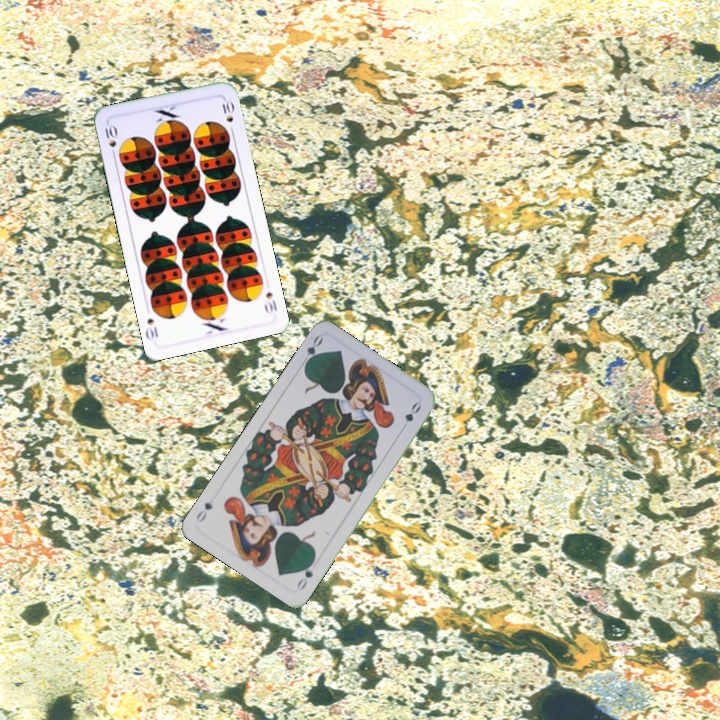GO: (296, 331, 326, 370), (293, 555, 317, 593)
S10: (101, 121, 120, 160), (260, 287, 280, 316)
